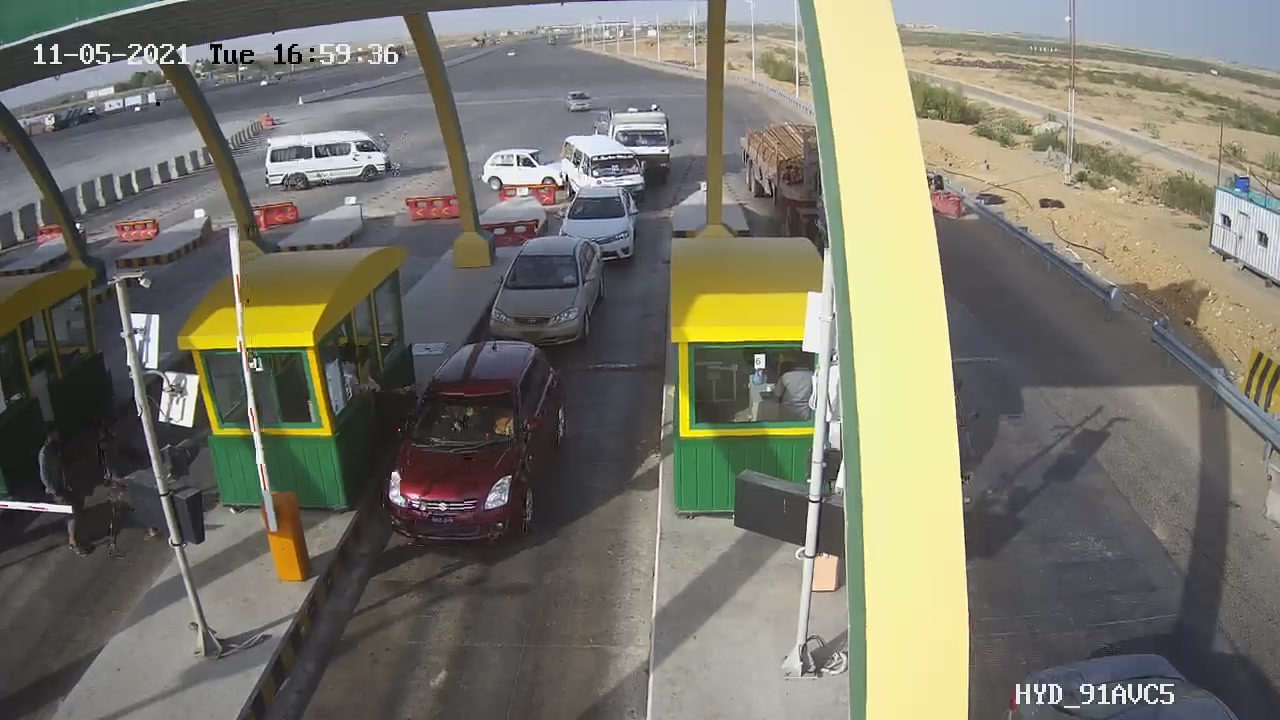F1: (371, 332, 580, 556), (480, 224, 620, 362), (546, 177, 650, 275)
